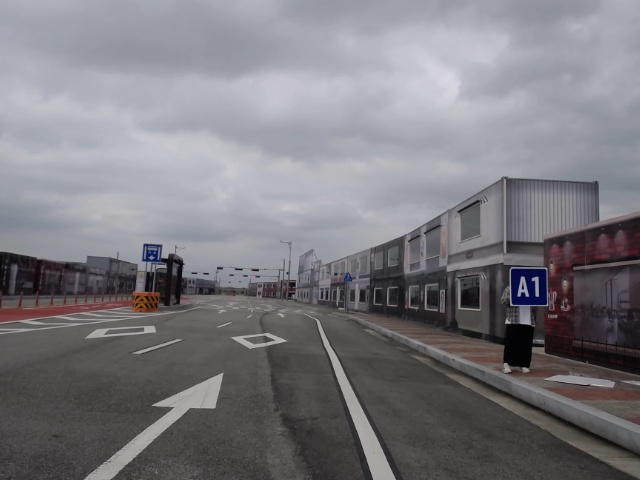delivery_a1: (510, 267, 548, 307)
